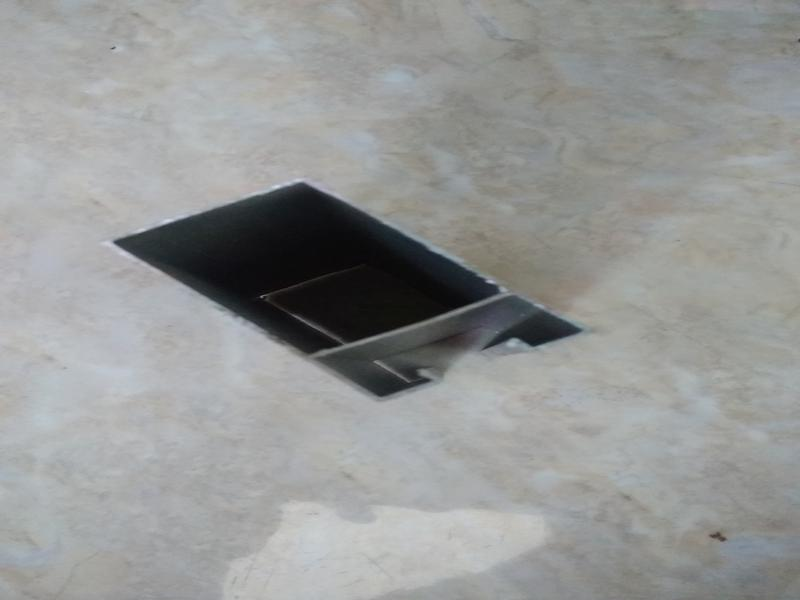Aluminium_1: (75, 156, 632, 437)
